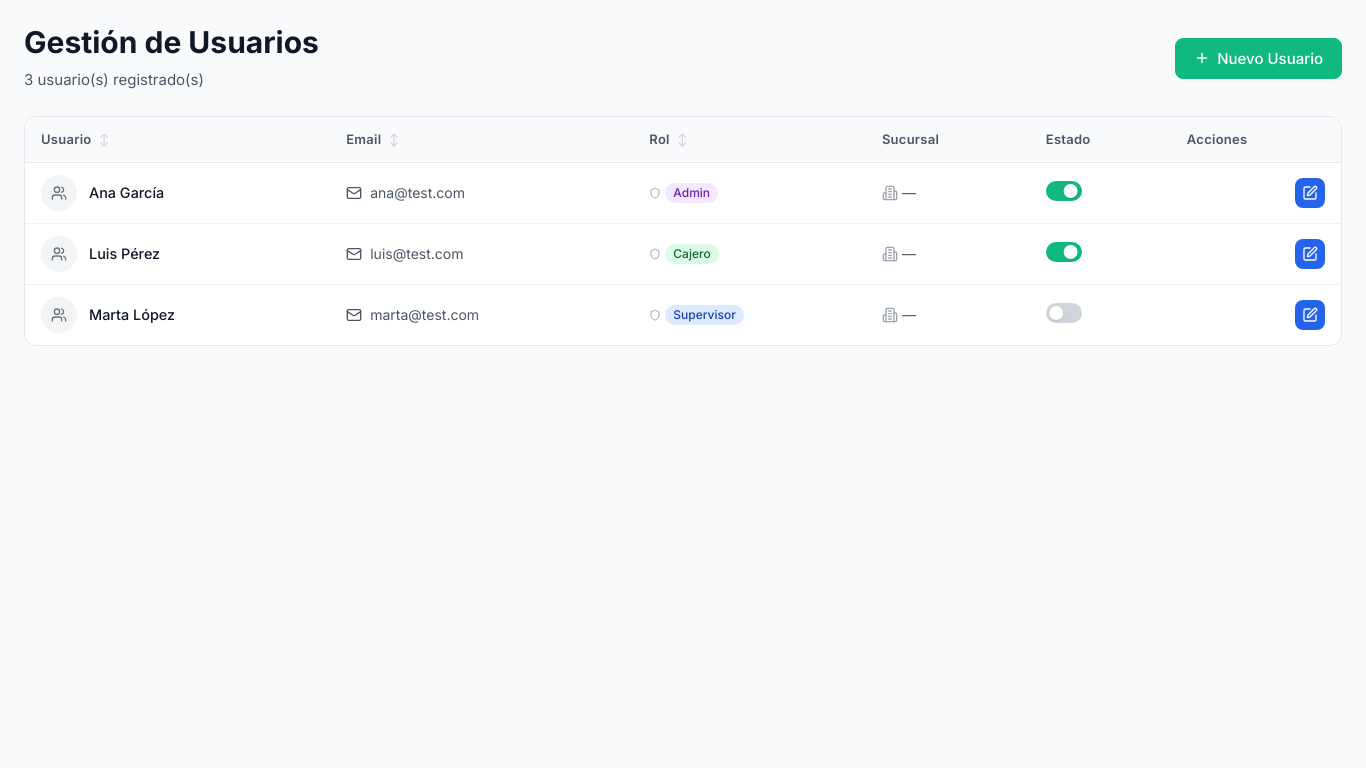
it: UserManagement – editar usuario › botón editar abre modal con título "Editar Usuario"
Check: the text "Ana García" is shown, box [89, 181, 164, 204]
Click the button titled "Editar" in the row of "Ana García" at (1310, 193), box [1295, 178, 1325, 208]
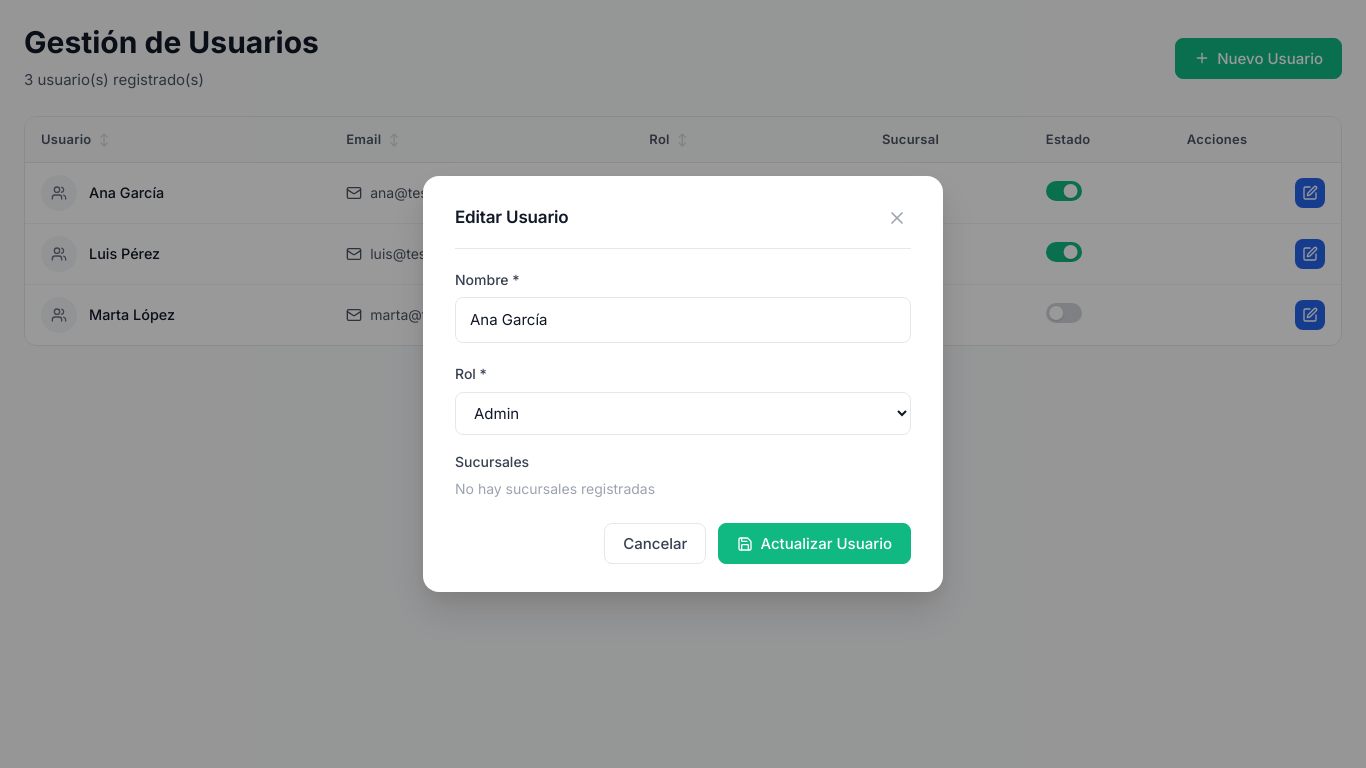
Check: the heading "Editar Usuario" is shown, box [455, 204, 568, 232]
